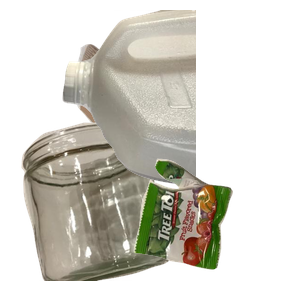cardboard: (74, 42, 225, 170)
glass: (19, 120, 184, 300)
plastic: (60, 10, 300, 190)
trash: (131, 156, 300, 300)
